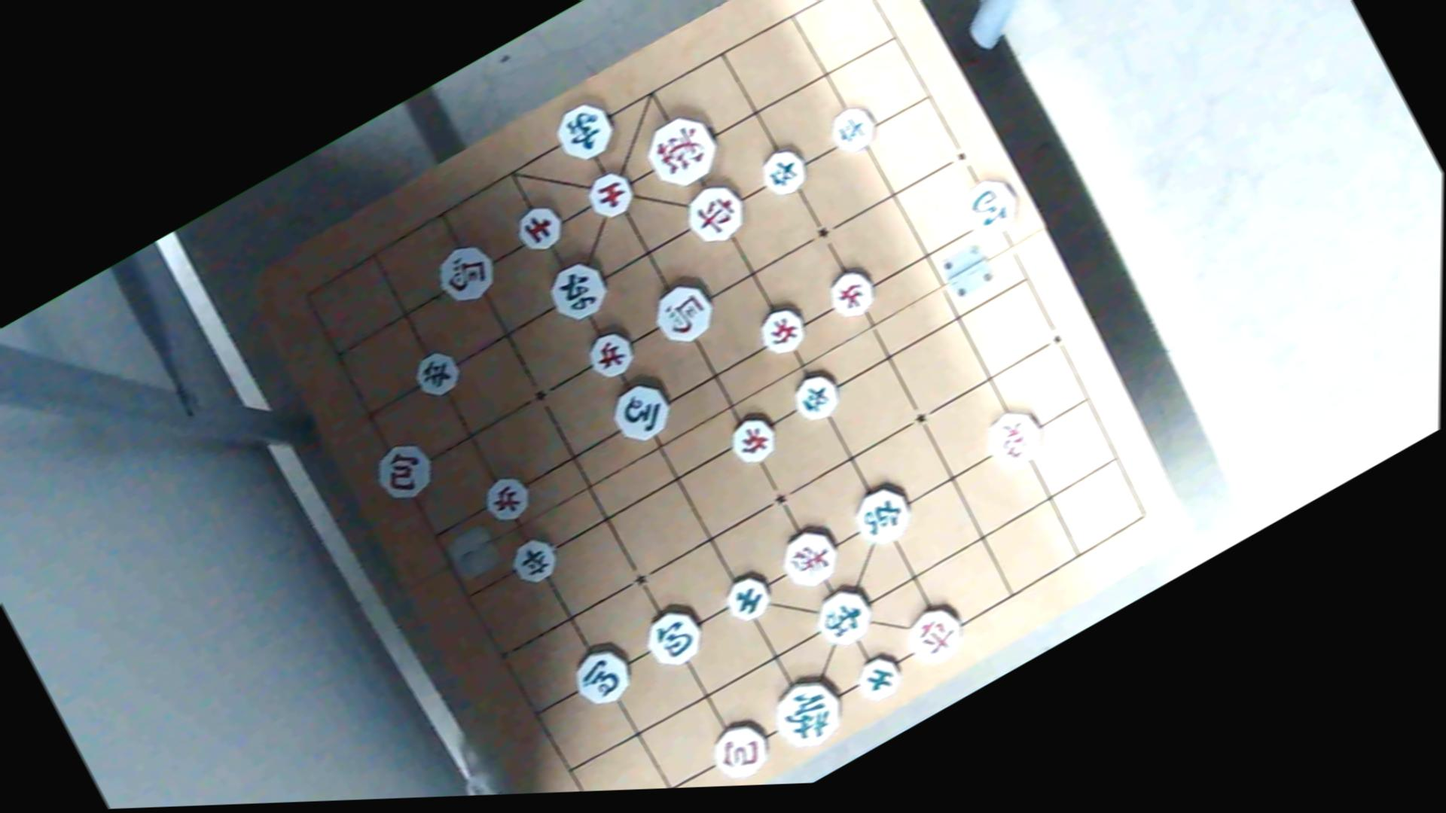cha_green: (538, 252, 616, 330), (845, 480, 919, 552)
cha_red: (676, 175, 752, 253), (899, 601, 972, 672)
jol_green: (752, 145, 813, 206), (786, 368, 844, 426), (409, 345, 466, 401), (825, 102, 881, 157), (504, 535, 560, 590)
jol_red: (476, 467, 539, 531), (722, 408, 784, 471), (816, 266, 880, 325), (752, 300, 812, 360), (581, 327, 638, 382)
ma_green: (564, 639, 642, 713), (604, 375, 678, 447)
ma_red: (423, 234, 504, 314), (647, 275, 721, 352)
po_green: (948, 170, 1024, 246), (635, 601, 712, 674)
po_red: (701, 714, 778, 787), (365, 434, 439, 507)
sa_green: (847, 648, 911, 711), (715, 568, 778, 628)
sa_red: (508, 199, 567, 257), (580, 166, 639, 224)
sang_green: (548, 96, 622, 169), (806, 585, 878, 656)
sang_red: (972, 400, 1051, 477), (770, 521, 847, 597)
wang_green: (760, 670, 853, 759)
wang_red: (639, 103, 730, 196)
